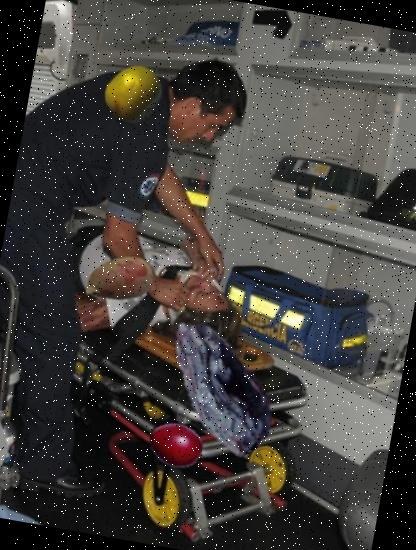Dates: (137, 300, 306, 468)
Pomelo: (99, 58, 170, 130)
Potato: (77, 238, 160, 321)
Tamarillo: (144, 412, 212, 480)
